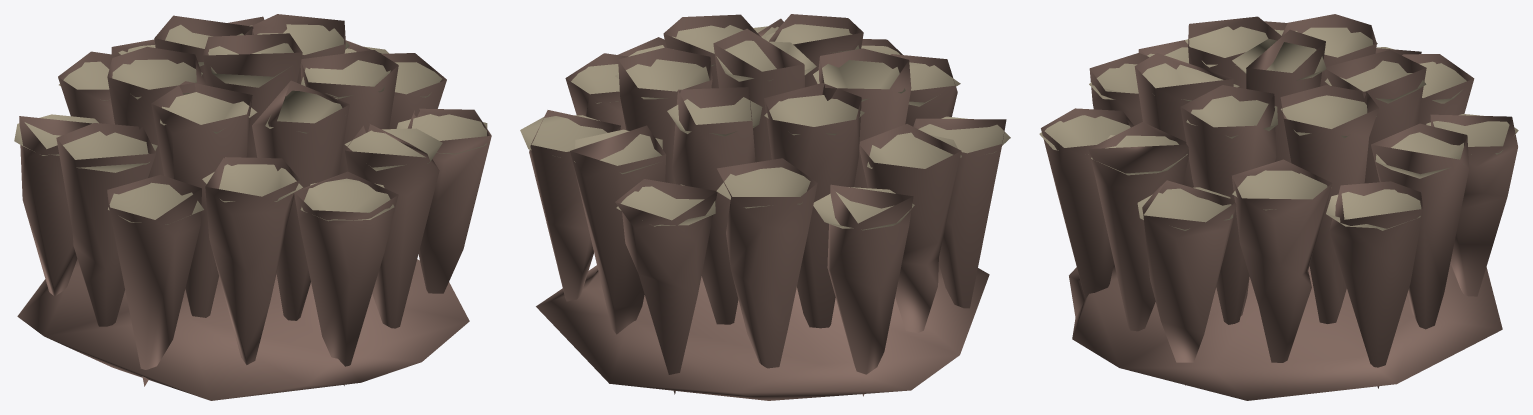
The model's file is devonian-rugose.lod1.glb.
The picture shows the model from 3 angles, left to right: view 1: azimuth 30°, elevation 25°; view 2: azimuth 150°, elevation 25°; view 3: azimuth 270°, elevation 25°; orthographic projection.
Visible parts, largest first — view 1: devonian-rugose; view 2: devonian-rugose; view 3: devonian-rugose.
Boxes of the visible parts, left/top/right/bottom form: devonian-rugose: left=14, top=14, right=491, bottom=400; devonian-rugose: left=520, top=14, right=1010, bottom=400; devonian-rugose: left=1039, top=14, right=1518, bottom=400.
Bounding box in the file's own units: 0.817 × 0.5462 × 0.8708.
